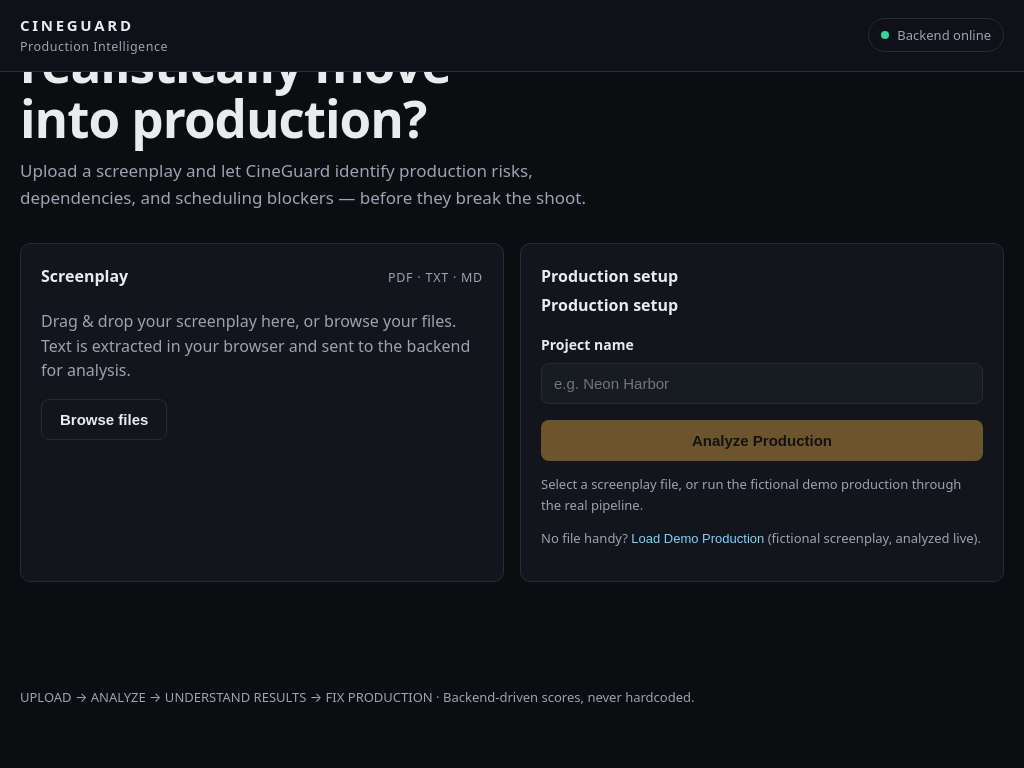
Test: CineGuard journey › loads the demo production and analyzes it through the real pipeline
The image size is (1024, 768).
(page scrolled)
Click the button "Load Demo Production" at (698,538), box [631, 531, 764, 546]
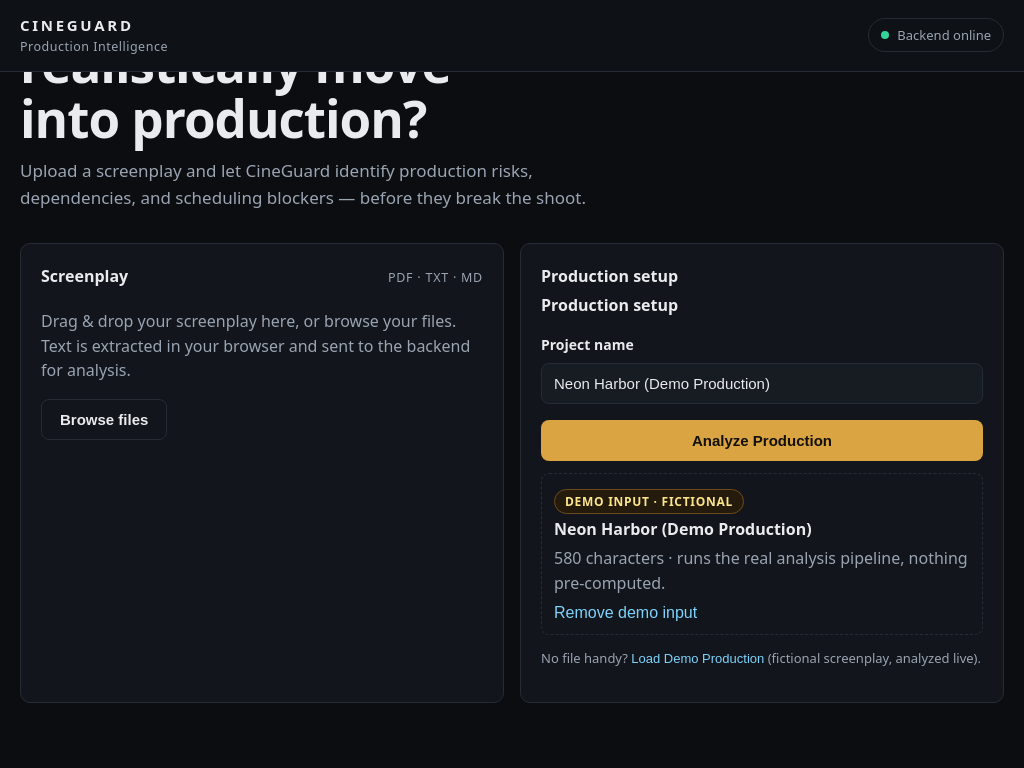
Check: the text "DEMO INPUT · FICTIONAL" is shown, box [554, 489, 744, 514]
Check: the button "Analyze Production" is enabled
Click the button "Analyze Production" at (762,441), box [541, 420, 983, 461]
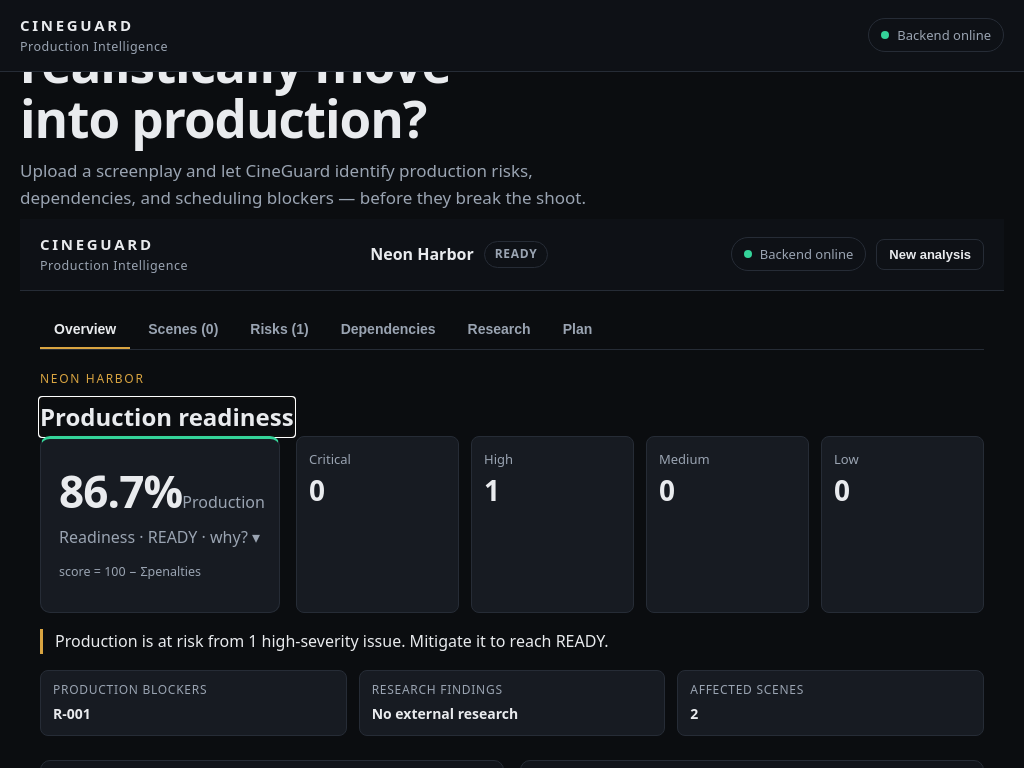
Check: the text "87.5%" is shown, box [59, 460, 182, 520]
